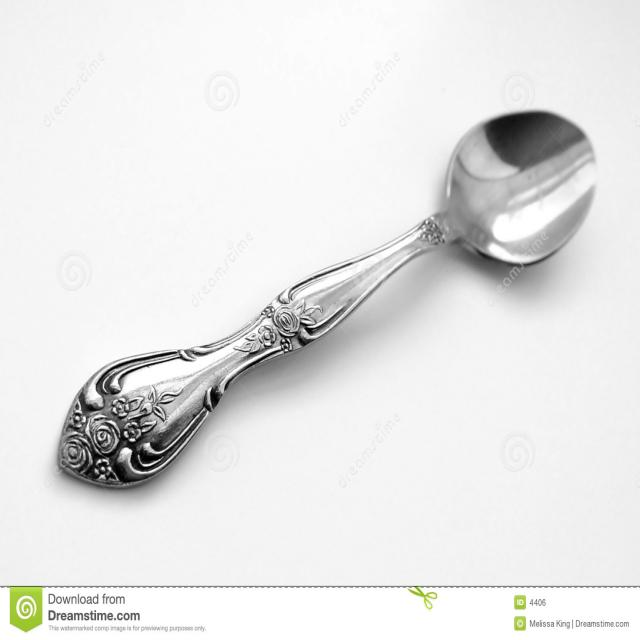spoon: (49, 95, 603, 500)
